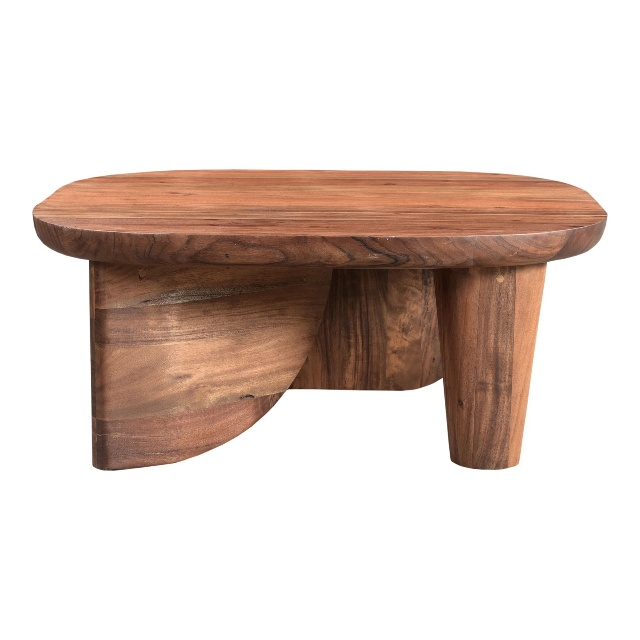obstacle: (34, 170, 606, 469)
